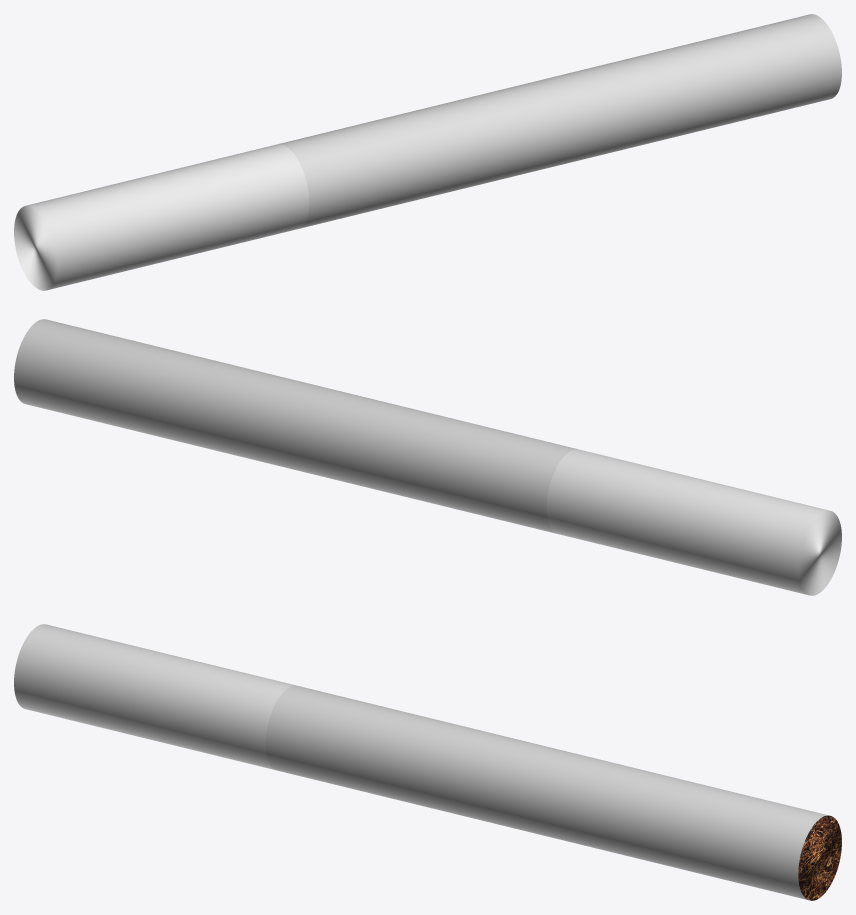
Rendered from Zigarette.fbx.
The picture shows the model from 3 angles, top to bottom: view 1: azimuth 30°, elevation 25°; view 2: azimuth 150°, elevation 25°; view 3: azimuth 330°, elevation 25°; orthographic projection.
Parts seen in each view (by area): view 1: Zigarette; view 2: Zigarette; view 3: Zigarette.
Part boxes in pixels (x1=…): Zigarette: x1=14, y1=14, x2=841, y2=290; Zigarette: x1=14, y1=319, x2=841, y2=595; Zigarette: x1=14, y1=624, x2=841, y2=900.
Size of the model in its own units: 8.3 by 0.8 by 0.8.
